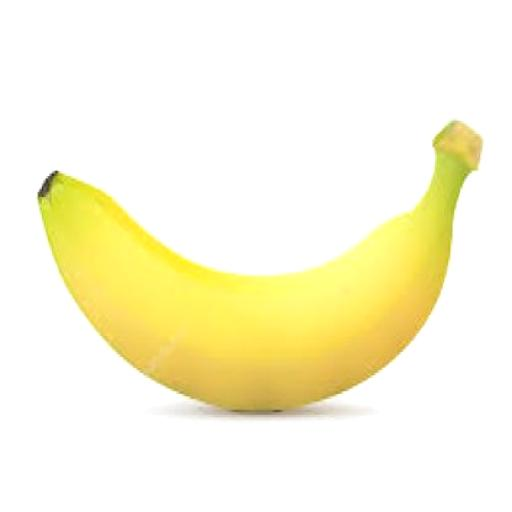biodegradable: (34, 118, 480, 408)
